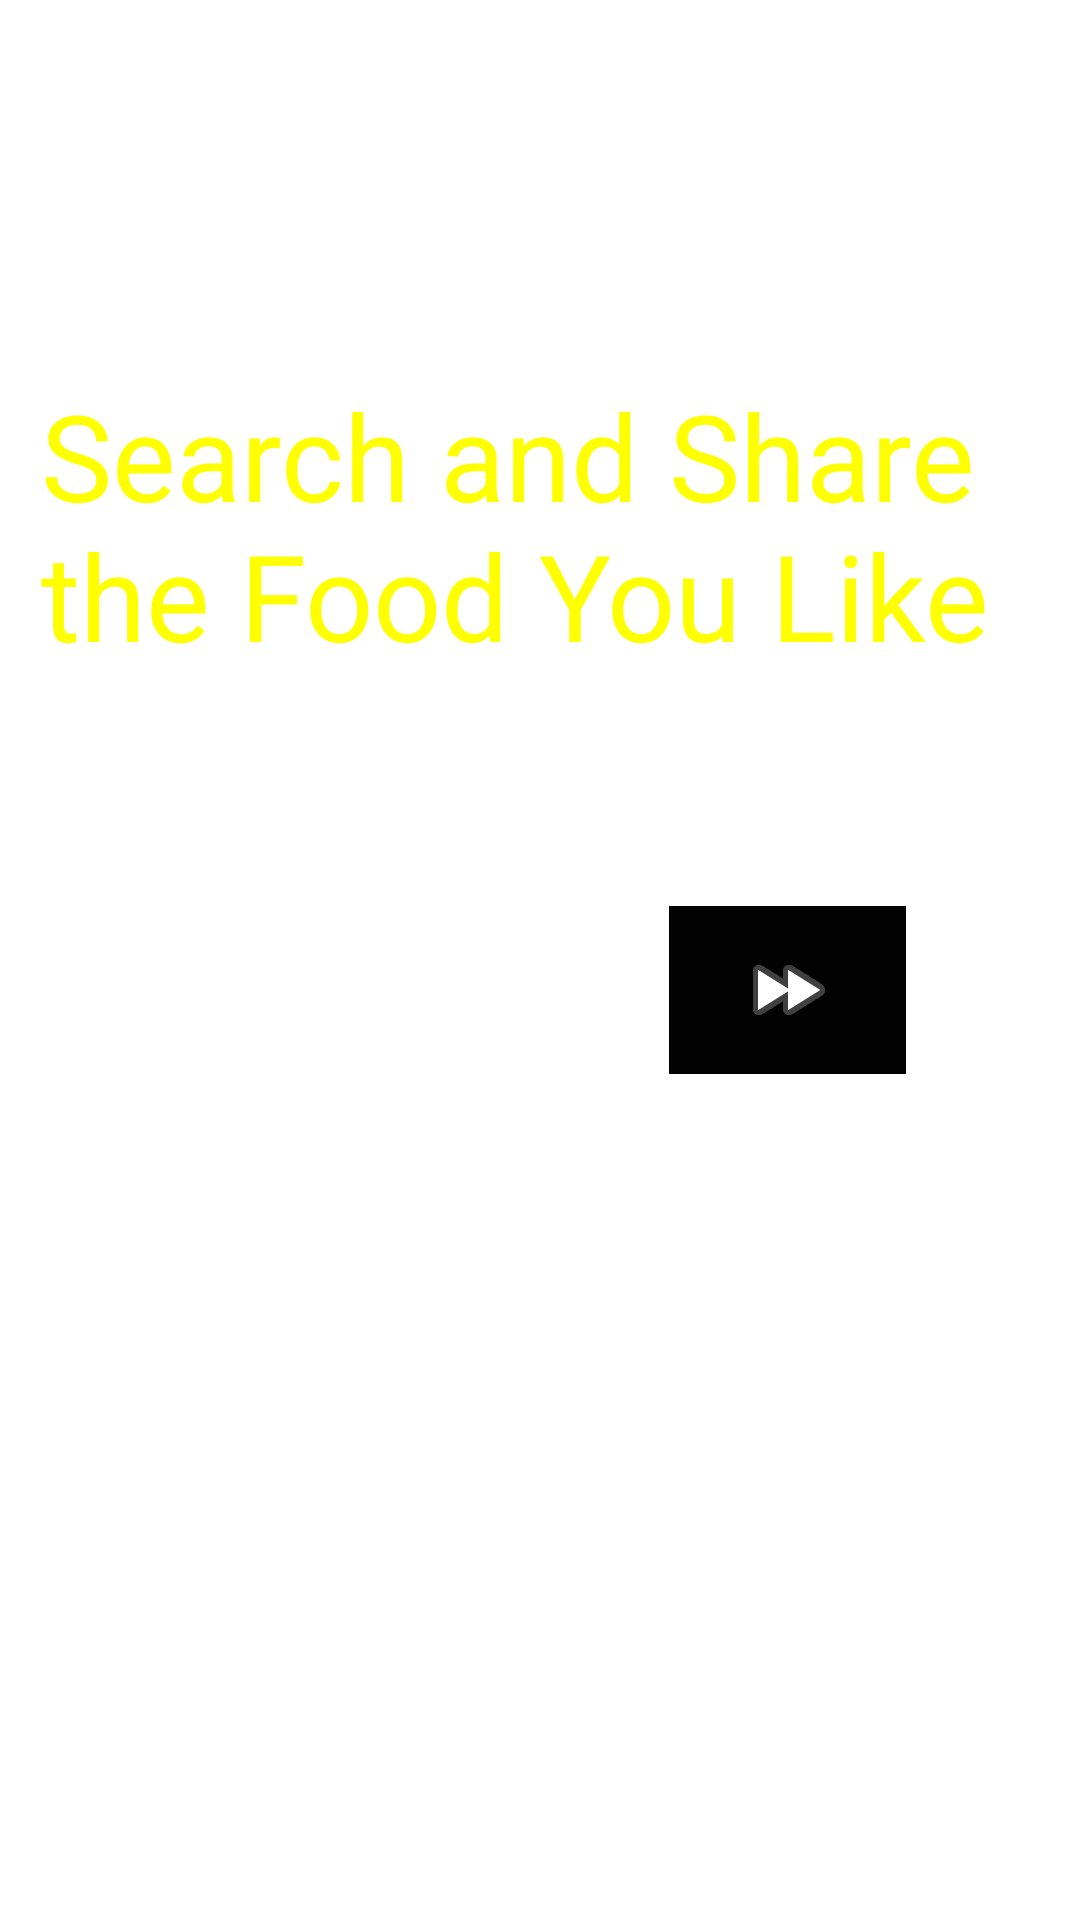

Icon bounding boxes for this 1080×1920 phone screenshot, format box=[x1, y1, x2, y2]:
next: box=[669, 906, 906, 1074]
